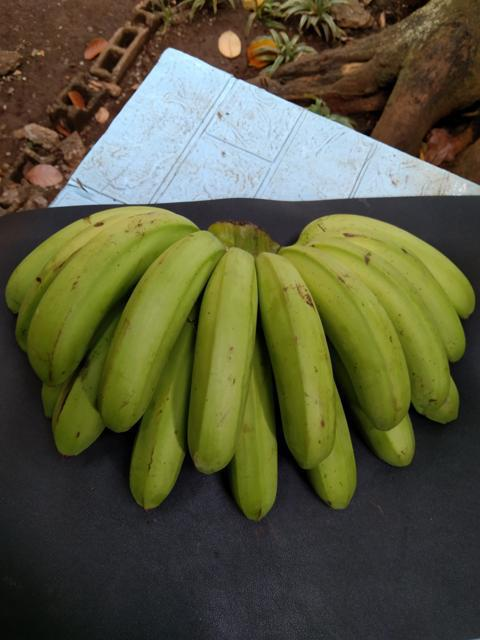freshunripe: (95, 225, 228, 440), (174, 243, 259, 480), (304, 385, 377, 517)
unripe: (18, 203, 172, 383), (297, 238, 418, 431), (244, 230, 334, 474), (344, 218, 452, 417), (39, 365, 137, 453), (221, 410, 290, 534), (118, 406, 195, 514)
